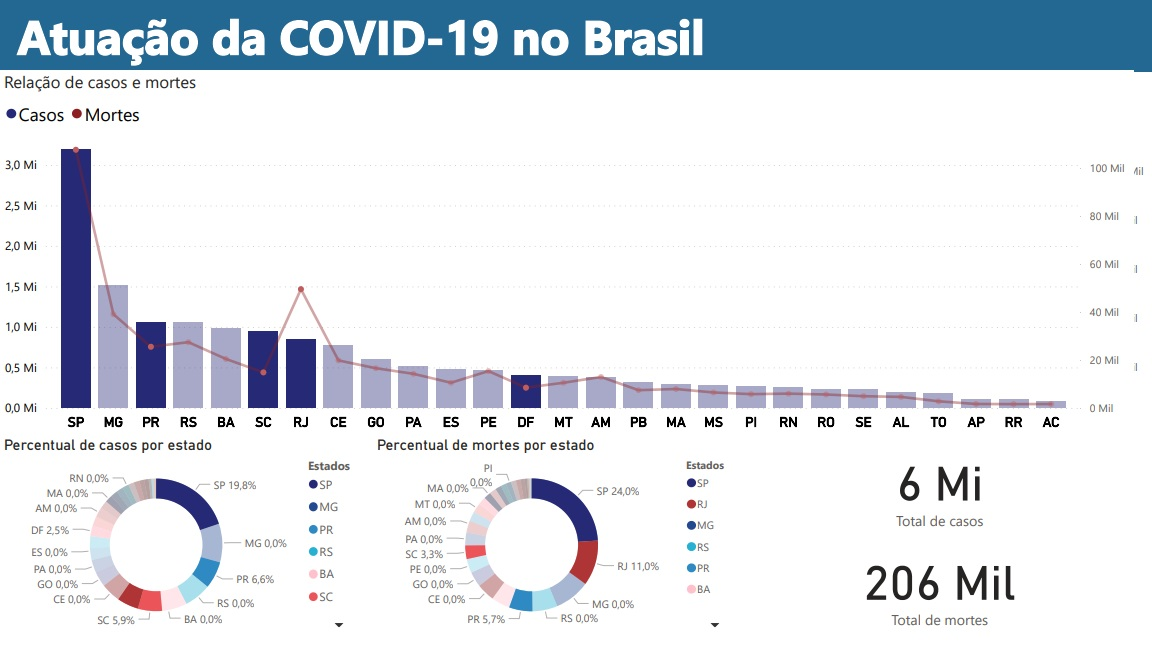

What the dashboard file says about the page in this screenshot:
{"tool":"powerbi","page":{"name":"Estados","canvas":[1280,720],"ordinal":1},"visuals":[{"type":"textbox","box":[0,0,1280.2,80.6],"z":0},{"type":"lineClusteredColumnComboChart","title":"Relação de casos e mortes","fields":{"Category":["total_state.state"],"Y":["Max(total_state.cases)"],"Y2":["Max(total_state.deaths)"]},"box":[0,81.4,1280,412.9],"z":1000},{"type":"donutChart","title":"Percentual de casos por estado","fields":{"Category":["total_state.state"],"Y":["Max(total_state.cases)"]},"box":[0,493.8,421.2,226.2],"z":2000},{"type":"donutChart","title":"Percentual de mortes por estado","fields":{"Category":["total_state.state"],"Y":["Max(total_state.deaths)"]},"box":[421.2,493.8,421.2,226.2],"z":3000},{"type":"card","fields":{"Values":["Sum(total_state.cases)"]},"box":[842.5,493.8,437,113.8],"z":4000},{"type":"card","fields":{"Values":["Sum(total_state.deaths)"]},"box":[842.5,606.2,437,113.8],"z":5000}]}

Visuals, with their boxes in screenshot pixels (x1, y1, x2, y2), scaled from the page's 1280x720 canvas onto the 1152x665 screenshot:
textbox: left=0, top=0, right=1151, bottom=74
"Relação de casos e mortes" lineClusteredColumnComboChart: left=0, top=75, right=1151, bottom=457
"Percentual de casos por estado" donutChart: left=0, top=456, right=379, bottom=664
"Percentual de mortes por estado" donutChart: left=379, top=456, right=758, bottom=664
card - Sum(total_state.cases): left=758, top=456, right=1151, bottom=561
card - Sum(total_state.deaths): left=758, top=560, right=1151, bottom=664
